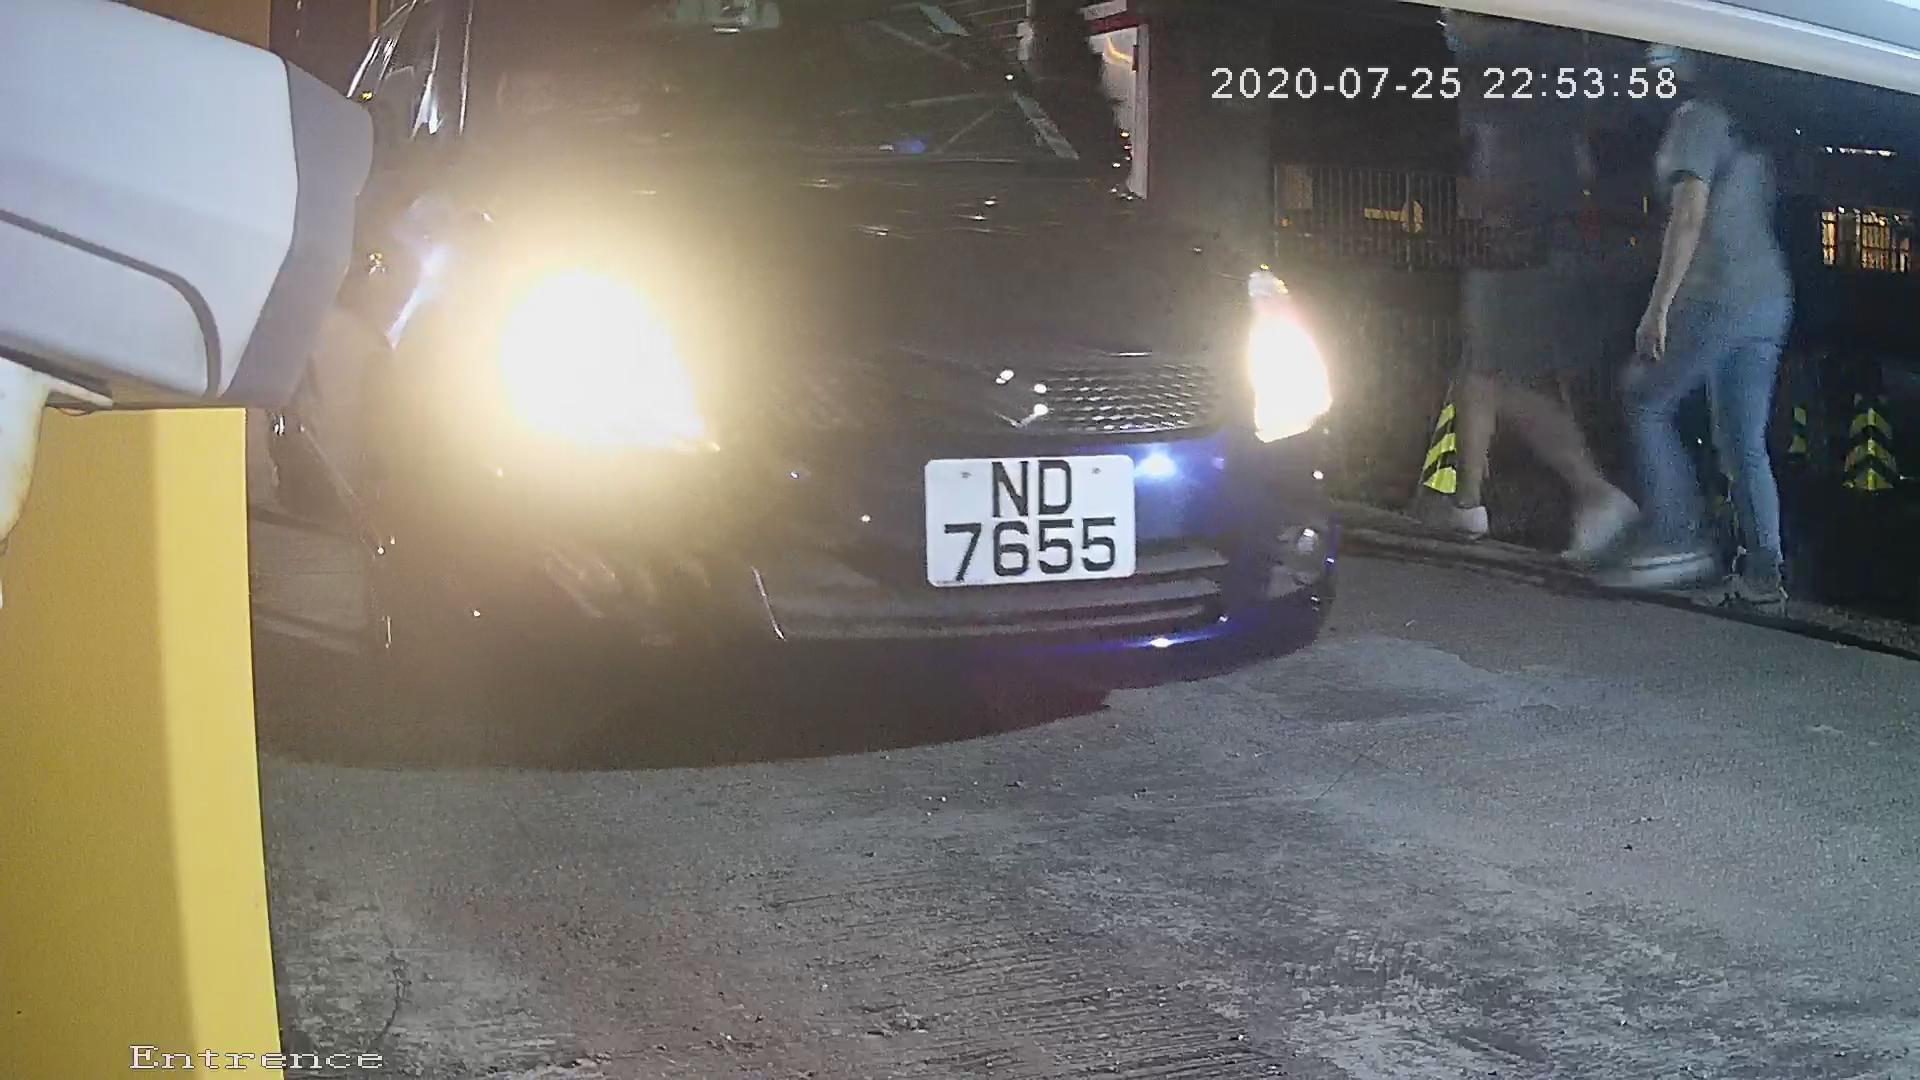privatecar: (326, 20, 1423, 729)
